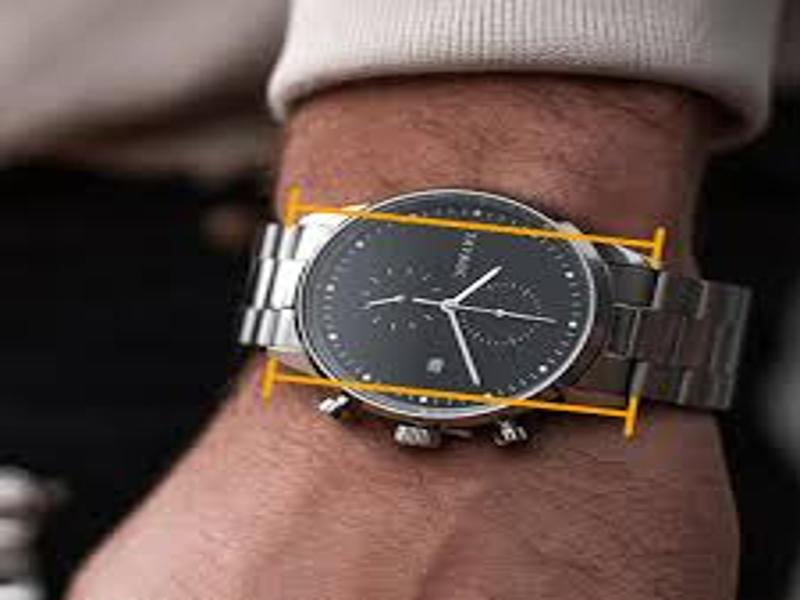watch: (243, 184, 755, 453)
